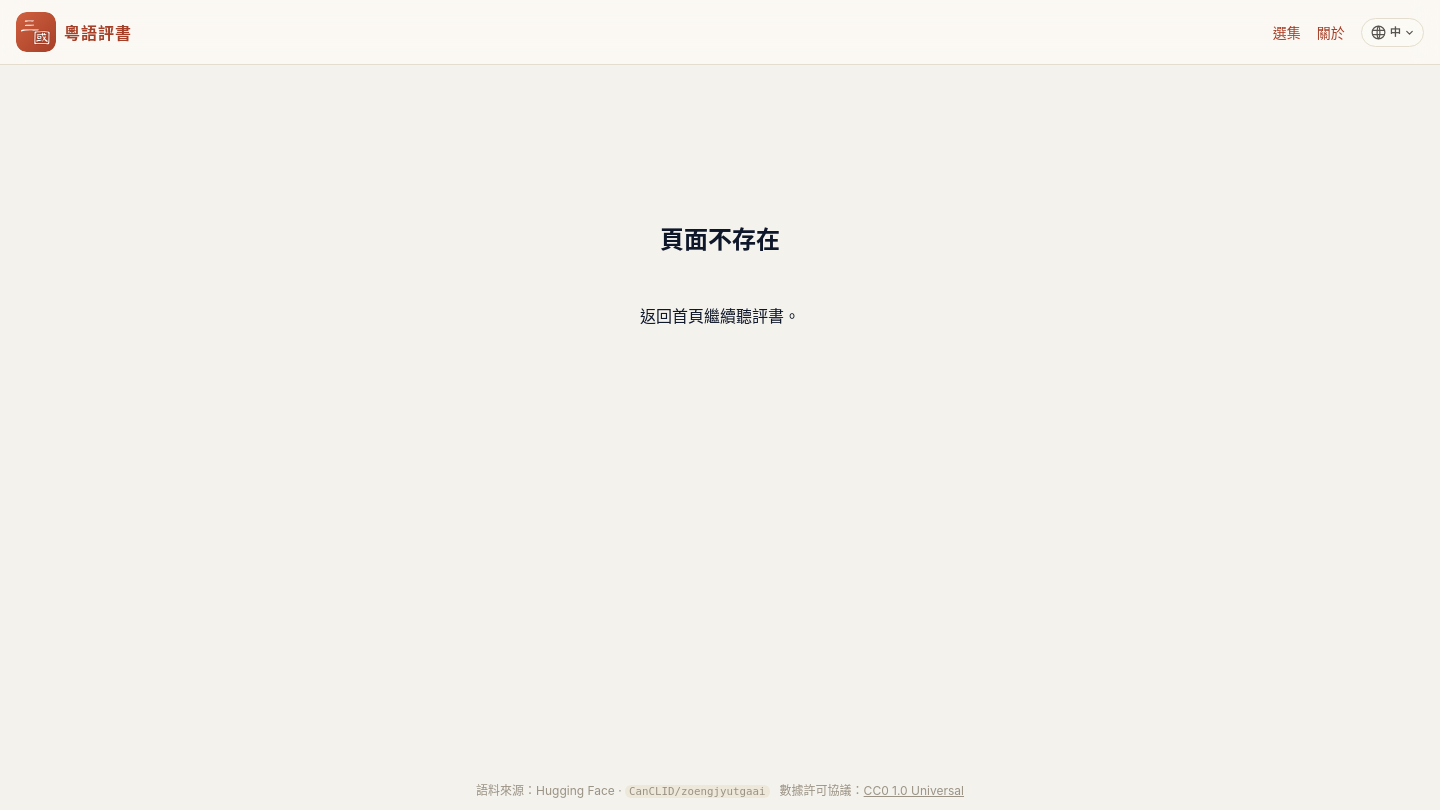
it: App integration across routes › translates the 404 route and keeps the switcher usable there
Check: the heading "頁面不存在" is shown, box [660,220,780,255]
Click the button "中" at (1392, 32), box [1361,18,1424,46]
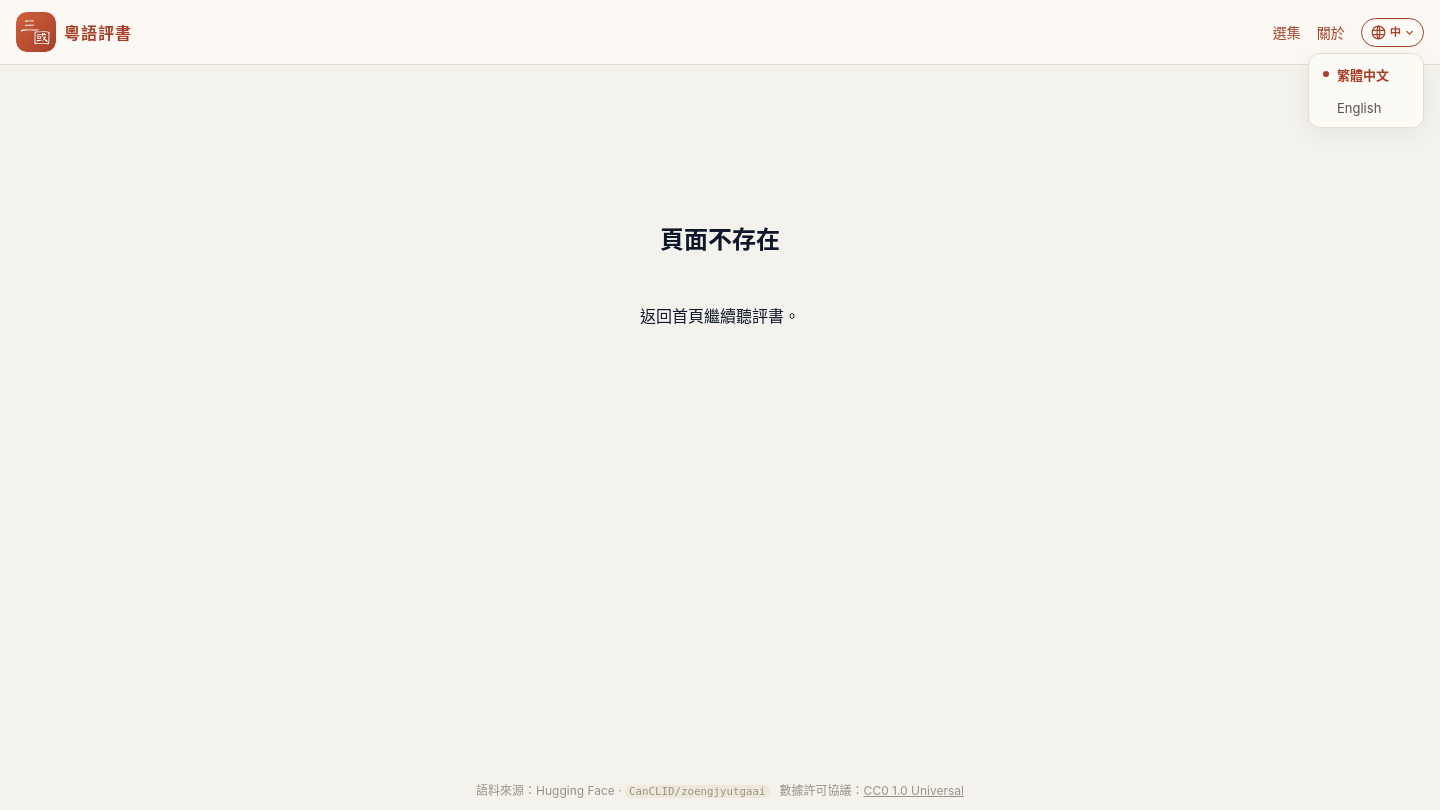
Click the button "English" at (1366, 108), box [1313,92,1419,122]
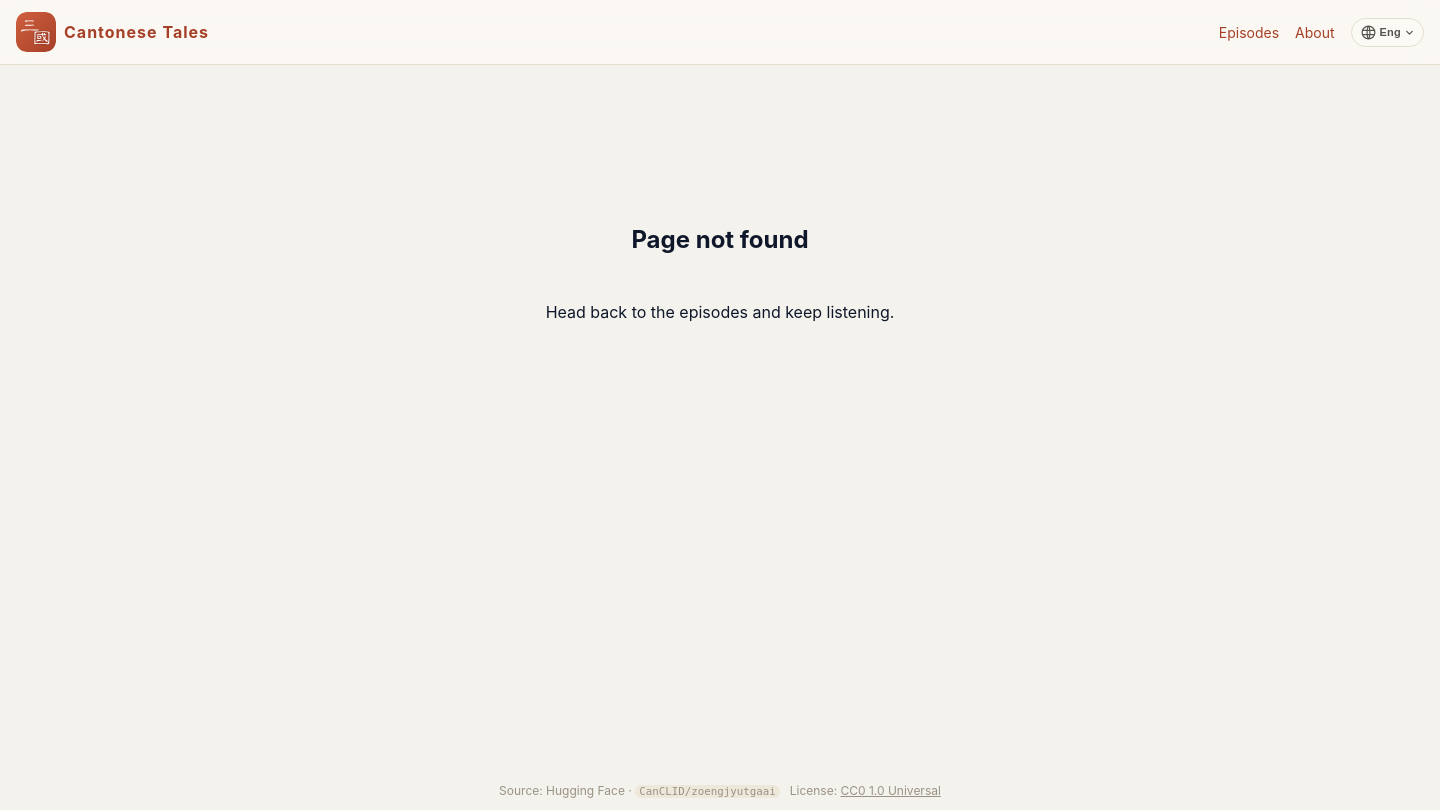
Check: the heading "Page not found" is shown, box [631,225,809,254]
